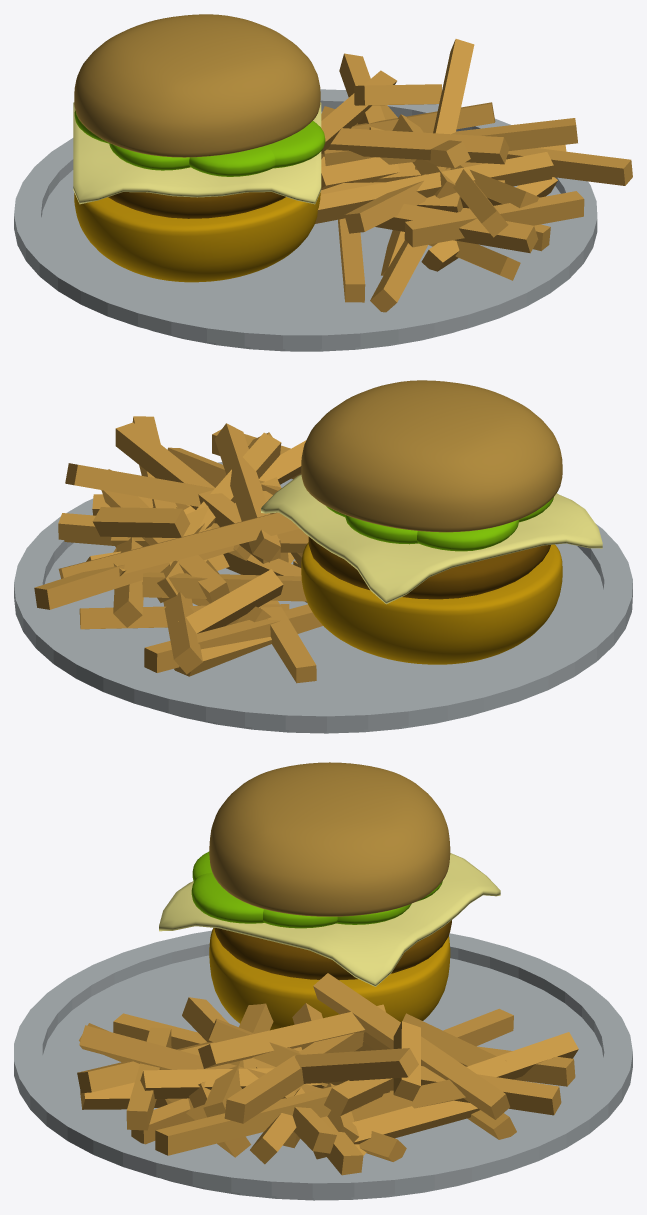
The model's file is burger_and_fries.glb.
3 views of the same model, one above another, from view 1: azimuth 30°, elevation 25°; view 2: azimuth 150°, elevation 25°; view 3: azimuth 270°, elevation 25° (orthographic). The views are drawn at different scales.
Parts seen in each view (by area): view 1: burger_high, plate, fry_1.030, fry_1.020, fry_1.032, fry_1.025, fry_1.033, fry_1.022, fry_1.034, fry_1.028, fry_1.004, fry_1.019 (+14 smaller); view 2: burger_high, plate, fry_1.031, fry_1.025, fry_1.020, fry_1.034, fry_1.039, fry_1.021, fry_1.019, fry_1.027, fry_1.023, fry_1.042 (+14 smaller); view 3: plate, burger_high, fry_1.031, fry_1.022, fry_1.020, fry_1.025, fry_1.034, fry_1.029, fry_1.016, fry_1.028, fry_1.038, fry_1.026 (+20 smaller).
Part boxes in pixels (left/top/right/bottom): burger_high: left=73, top=14, right=325, bottom=282; plate: left=14, top=89, right=597, bottom=351; fry_1.030: left=315, top=152, right=553, bottom=223; fry_1.020: left=322, top=128, right=509, bottom=164; fry_1.032: left=404, top=191, right=584, bottom=247; fry_1.025: left=324, top=118, right=577, bottom=165; fry_1.033: left=375, top=203, right=538, bottom=253; fry_1.022: left=506, top=148, right=632, bottom=185; fry_1.034: left=433, top=39, right=474, bottom=134; fry_1.028: left=344, top=162, right=484, bottom=233; fry_1.004: left=370, top=240, right=427, bottom=312; fry_1.019: left=354, top=84, right=441, bottom=105; burger_high: left=261, top=380, right=602, bottom=664; plate: left=14, top=462, right=632, bottom=733; fry_1.031: left=58, top=512, right=299, bottom=578; fry_1.025: left=115, top=422, right=280, bottom=563; fry_1.020: left=214, top=423, right=280, bottom=562; fry_1.034: left=65, top=463, right=214, bottom=506; fry_1.039: left=144, top=604, right=322, bottom=672; fry_1.021: left=34, top=546, right=234, bottom=609; fry_1.019: left=92, top=507, right=190, bottom=537; fry_1.027: left=178, top=569, right=283, bottom=633; fry_1.023: left=142, top=572, right=306, bottom=601; fry_1.042: left=260, top=600, right=316, bottom=683; plate: left=14, top=930, right=632, bottom=1200; burger_high: left=159, top=762, right=500, bottom=1030; fry_1.031: left=313, top=973, right=509, bottom=1119; fry_1.022: left=155, top=1085, right=360, bottom=1155; fry_1.020: left=198, top=1004, right=385, bottom=1068; fry_1.025: left=224, top=1032, right=363, bottom=1123; fry_1.034: left=295, top=1048, right=418, bottom=1083; fry_1.029: left=79, top=1025, right=325, bottom=1092; fry_1.016: left=313, top=1100, right=479, bottom=1159; fry_1.028: left=182, top=997, right=336, bottom=1153; fry_1.038: left=355, top=1032, right=578, bottom=1121; fry_1.026: left=140, top=1068, right=324, bottom=1098.
Size of the model in its own units: 2 by 0.8498 by 2.
